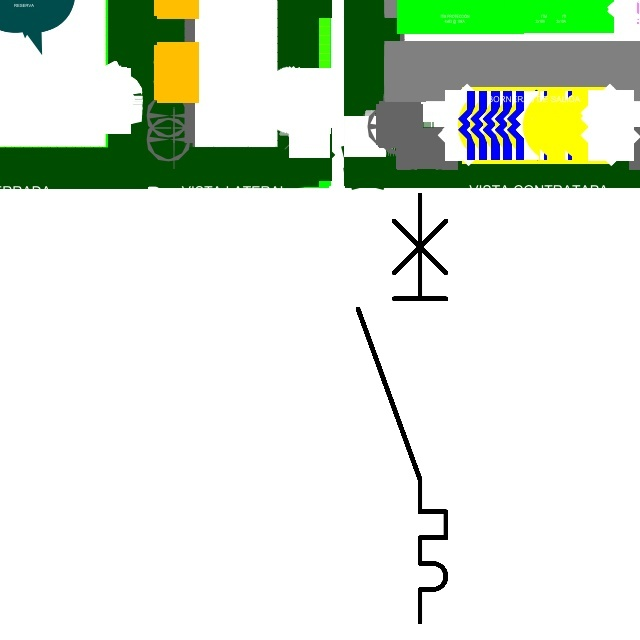interruptor_termomagnetico: (347, 184, 457, 633)
